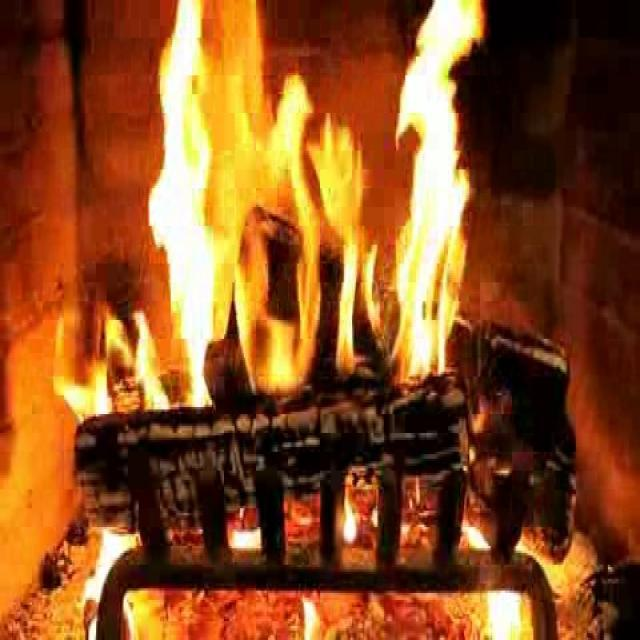Fire: (67, 12, 480, 380), (68, 530, 152, 640), (485, 585, 539, 640)
